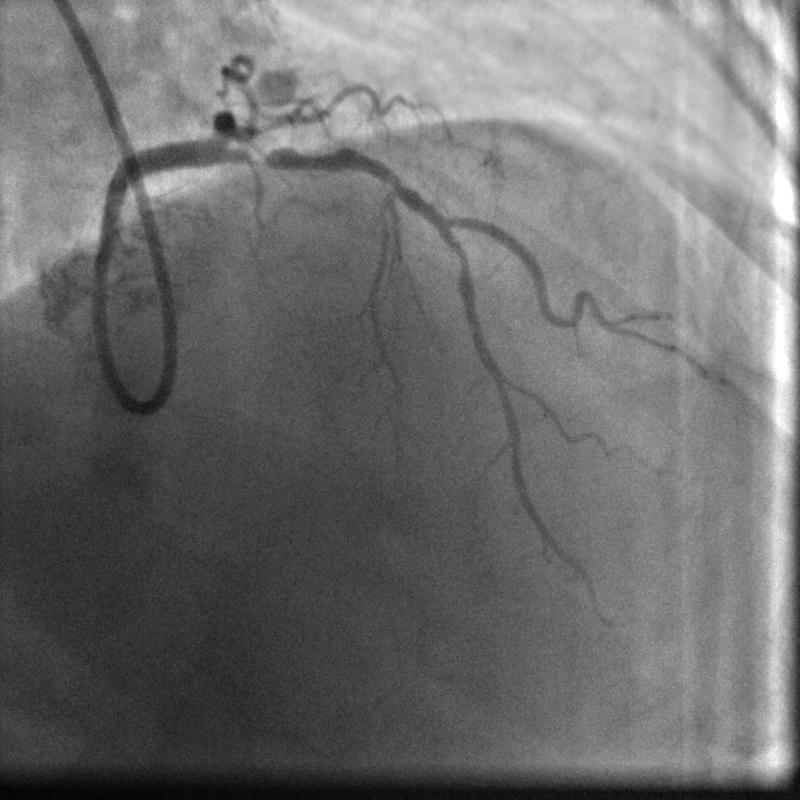Stenosis: (238, 138, 340, 171)
